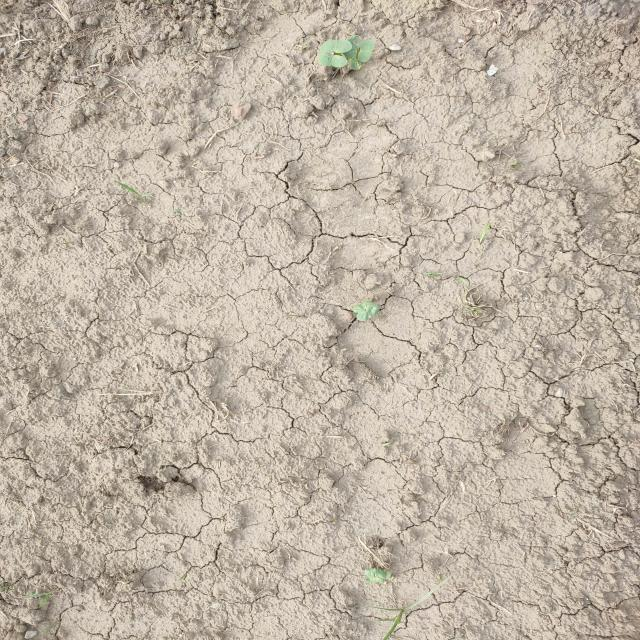seedling: (317, 53, 348, 68), (320, 39, 352, 53), (344, 35, 363, 57), (357, 39, 375, 62), (356, 304, 380, 321), (352, 301, 374, 313), (364, 568, 386, 578), (365, 577, 385, 583)
